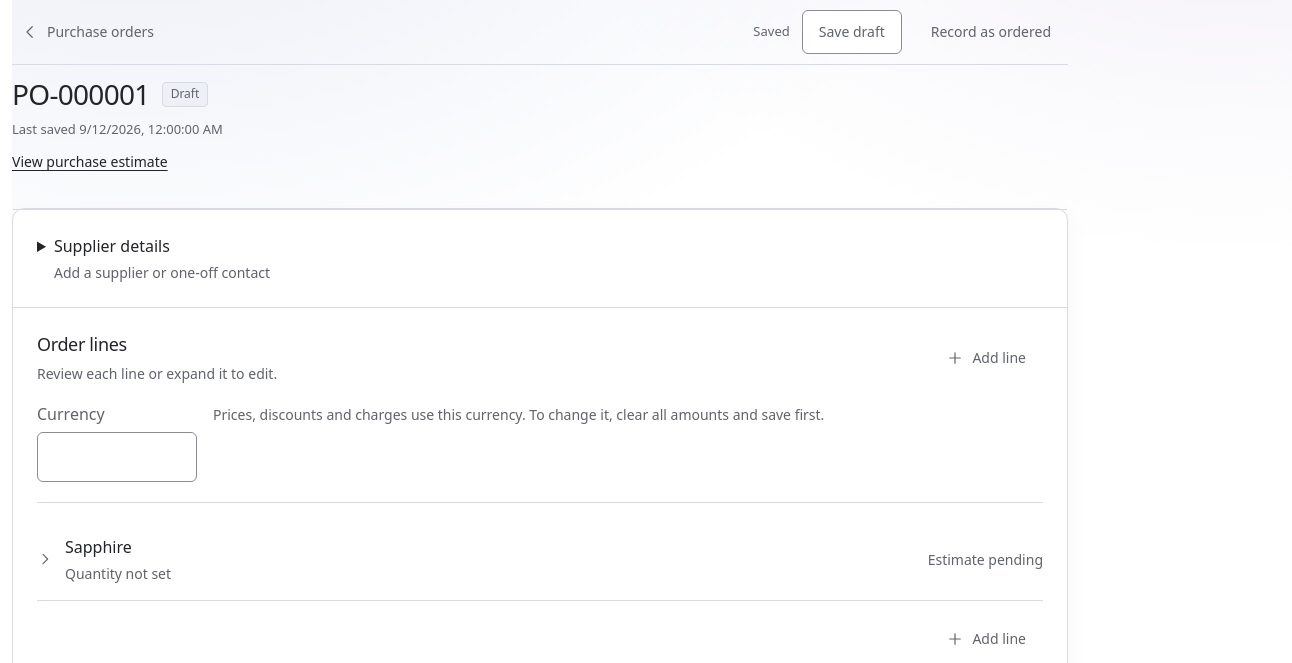
Test: summarizes populated line details when reopening a draft
The image size is (1292, 663).
Click the heading named "Edit line 1:" at [98, 547], box [37, 536, 1043, 583]
(page scrolled)
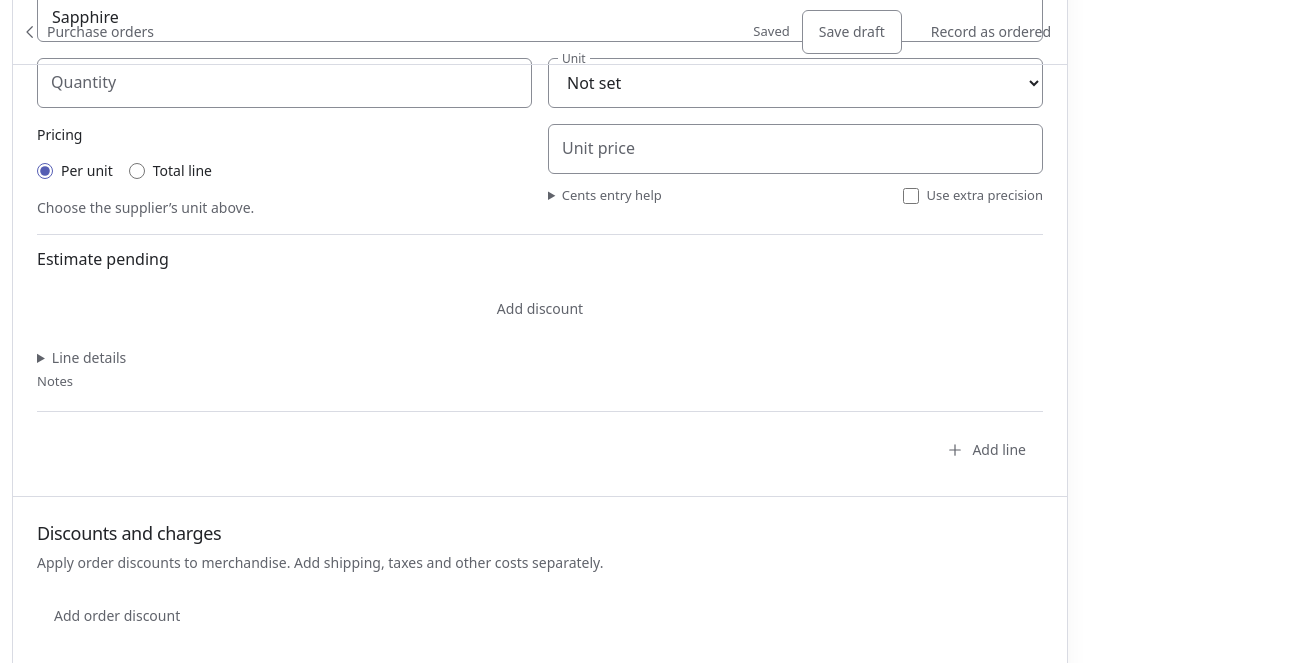
Click the heading "Line details Notes" at [82, 369], box [37, 348, 126, 390]
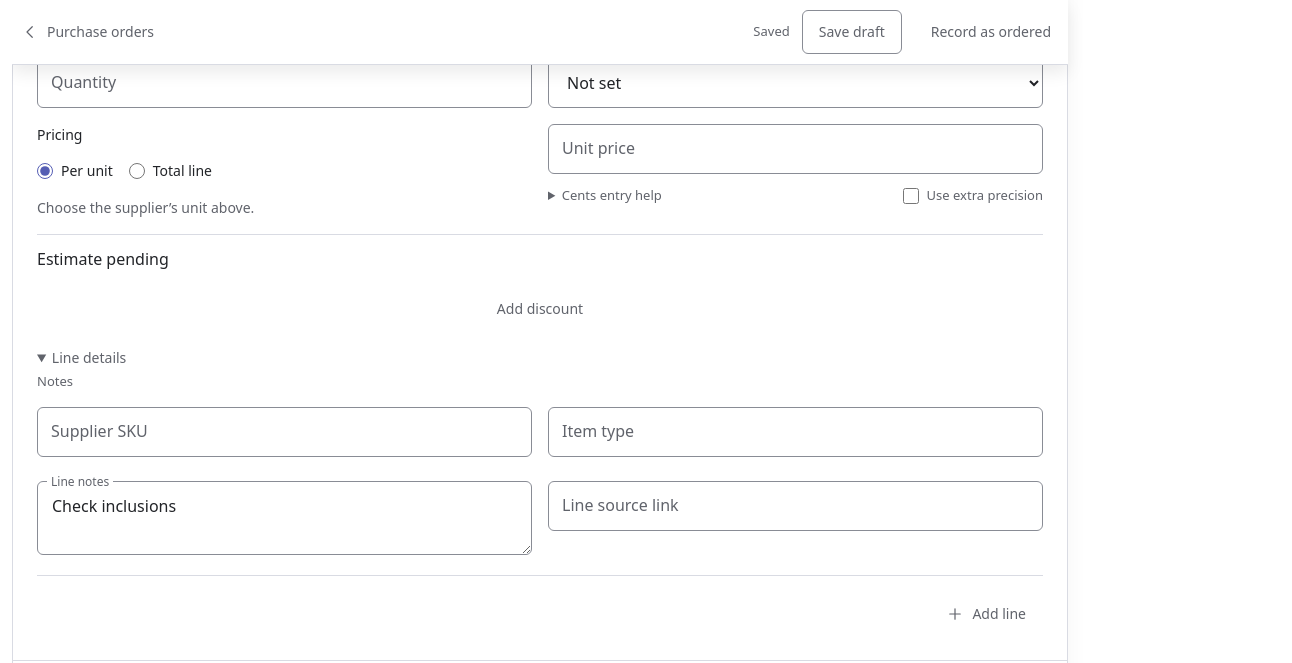
Result: the text box showing "Check inclusions" is shown at [37, 481, 532, 555]
